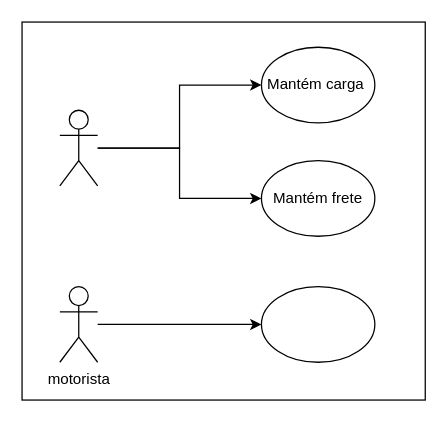
Image size: 447x422. Some labels were removed from this diagram. The centre of each missing label's shape, as x and y in pixels:
Empresa: point (78, 147)
Realiza frete: point (317, 323)
